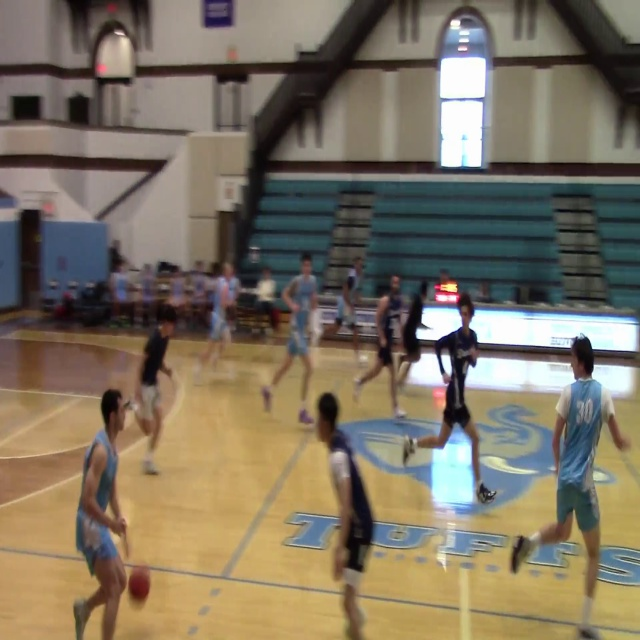Basketball: (128, 566, 151, 599)
